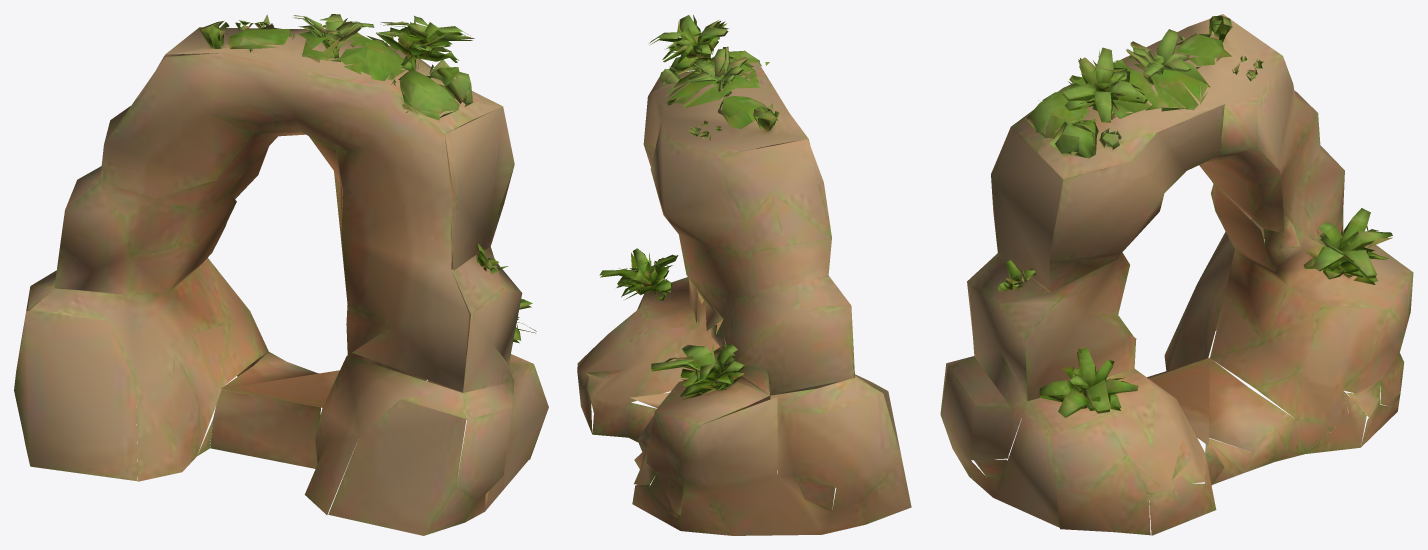
The model's file is rock_arch.glb.
3 views of the same model, side by side, from view 1: azimuth 30°, elevation 25°; view 2: azimuth 150°, elevation 25°; view 3: azimuth 270°, elevation 25° (orthographic). The views are drawn at different scales.
Parts seen in each view (by area): view 1: tripo_node_d8966479-c3d3-4347-b696-ff96b2ec42c4; view 2: tripo_node_d8966479-c3d3-4347-b696-ff96b2ec42c4; view 3: tripo_node_d8966479-c3d3-4347-b696-ff96b2ec42c4.
Part boxes in pixels (x1=…): tripo_node_d8966479-c3d3-4347-b696-ff96b2ec42c4: x1=14, y1=14, x2=548, y2=535; tripo_node_d8966479-c3d3-4347-b696-ff96b2ec42c4: x1=577, y1=15, x2=911, y2=535; tripo_node_d8966479-c3d3-4347-b696-ff96b2ec42c4: x1=940, y1=14, x2=1413, y2=535.
Size of the model in its own units: 0.9941 by 1 by 0.998.
Materials: 1 (1 with a texture image).
